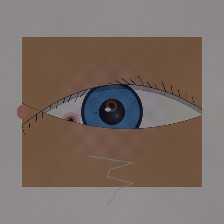foreign_body_visible: (94, 92, 129, 120)
